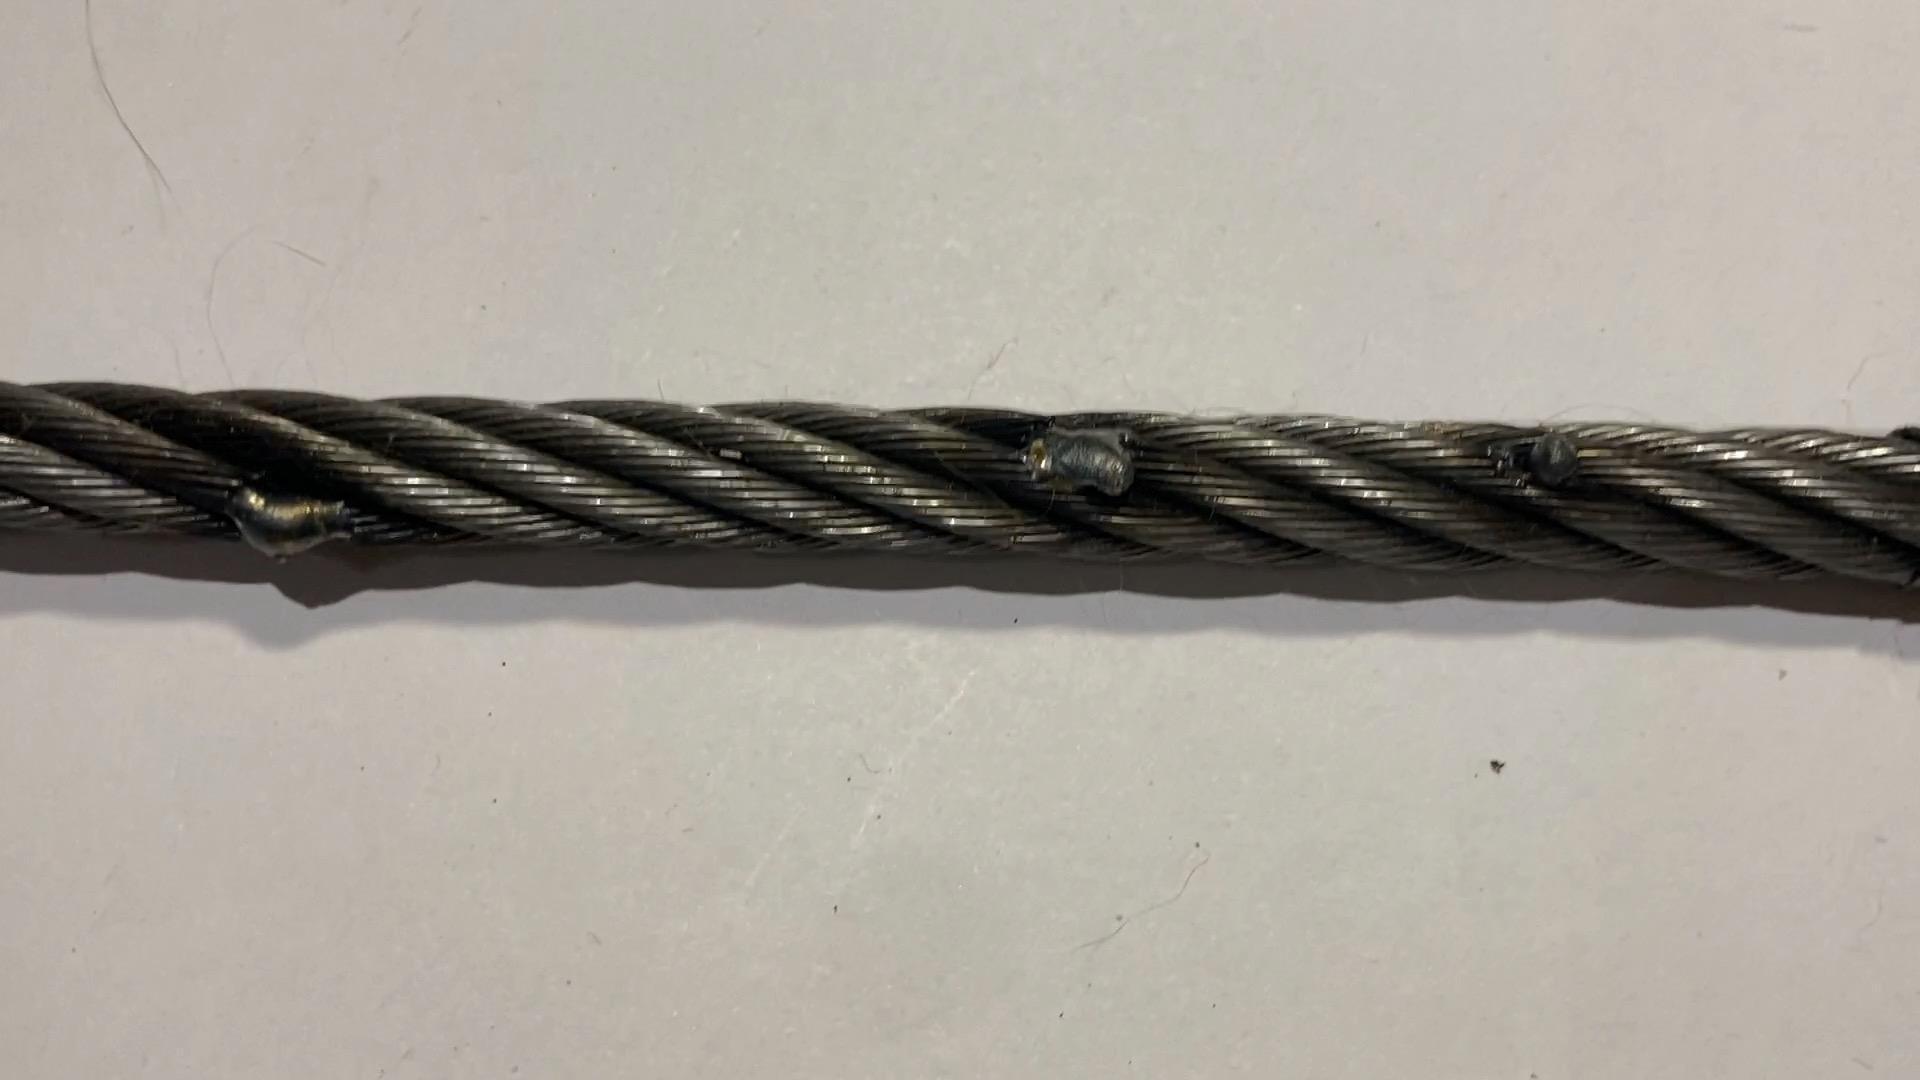thunderbolt: (996, 430, 1164, 517), (1458, 413, 1597, 513), (218, 463, 361, 553)
